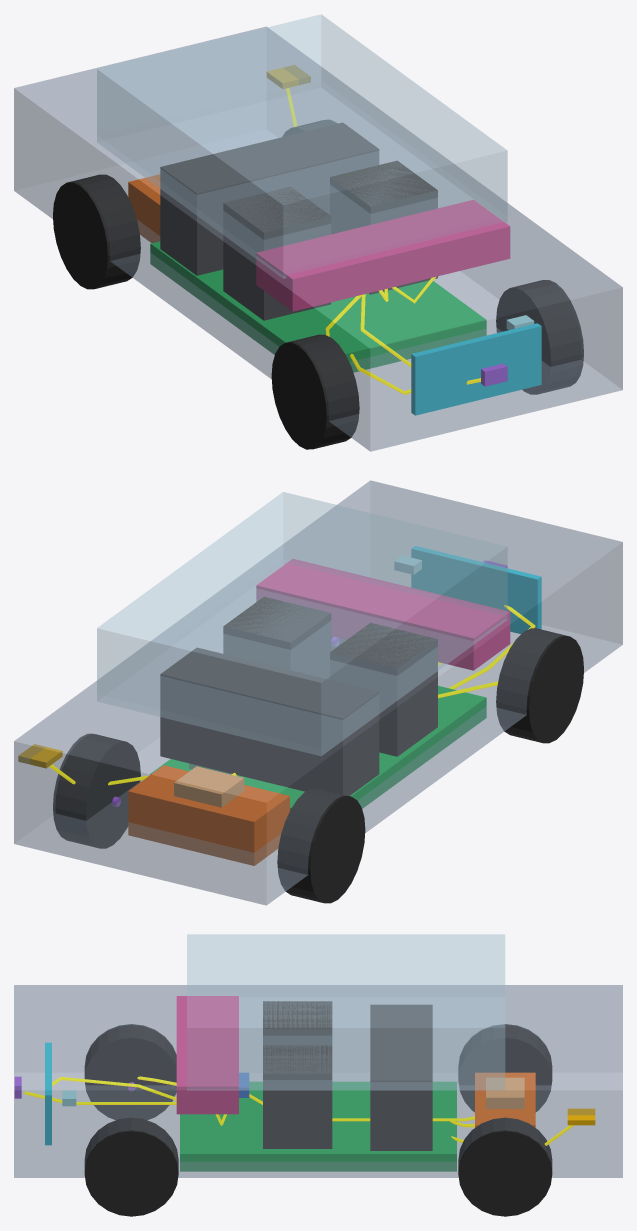
File: car.glb
3 views of the same model, one above another, from view 1: azimuth 30°, elevation 25°; view 2: azimuth 150°, elevation 25°; view 3: azimuth 270°, elevation 25° (orthographic). The views are drawn at different scales.
Parts seen in each view (by area): view 1: VEH, DECOR_canopy, HMI, DECOR_seat_rear, ENERGY, DECOR_wheel_FR, DECOR_wheel_RR, DECOR_seat_R, THERMAL, DECOR_seat_L, DECOR_wheel_FL, POWERTRAIN (+1 smaller); view 2: VEH, DECOR_canopy, DECOR_seat_rear, HMI, POWERTRAIN, DECOR_seat_R, DECOR_wheel_RR, DECOR_wheel_FR, DECOR_wheel_RL, DECOR_seat_L, THERMAL, ENERGY (+2 smaller); view 3: VEH, DECOR_canopy, ENERGY, DECOR_seat_rear, DECOR_wheel_FL, DECOR_wheel_RL, HMI, DECOR_seat_L, DECOR_wheel_FR, DECOR_wheel_RR, DECOR_seat_R, POWERTRAIN (+5 smaller).
Boxes of the visible parts, box(x1,y1,x2,y2) form: VEH: box(14, 26, 622, 451); DECOR_canopy: box(97, 14, 507, 278); HMI: box(256, 200, 510, 311); DECOR_seat_rear: box(160, 122, 379, 275); ENERGY: box(150, 241, 486, 372); DECOR_wheel_FR: box(271, 334, 359, 449); DECOR_wheel_RR: box(53, 174, 140, 289); DECOR_seat_R: box(223, 186, 331, 320); THERMAL: box(411, 323, 541, 415); DECOR_seat_L: box(330, 160, 437, 294); DECOR_wheel_FL: box(496, 280, 583, 394); POWERTRAIN: box(128, 174, 160, 242); VEH: box(14, 480, 622, 905); DECOR_canopy: box(97, 492, 507, 755); DECOR_seat_rear: box(160, 647, 379, 795); HMI: box(256, 559, 510, 670); POWERTRAIN: box(128, 765, 289, 865); DECOR_seat_R: box(330, 622, 437, 756); DECOR_wheel_RR: box(277, 788, 365, 903); DECOR_wheel_FR: box(496, 628, 583, 743); DECOR_wheel_RL: box(53, 734, 140, 848); DECOR_seat_L: box(223, 596, 331, 679); THERMAL: box(411, 546, 541, 633); ENERGY: box(150, 686, 486, 809); VEH: box(14, 985, 622, 1177); DECOR_canopy: box(187, 934, 504, 1090); ENERGY: box(180, 1082, 456, 1171); DECOR_seat_rear: box(370, 1004, 432, 1150); DECOR_wheel_FL: box(84, 1117, 178, 1216); DECOR_wheel_RL: box(458, 1117, 552, 1216); HMI: box(176, 996, 238, 1114); DECOR_seat_L: box(263, 1045, 332, 1148); DECOR_wheel_FR: box(84, 1024, 176, 1119); DECOR_wheel_RR: box(458, 1024, 552, 1111); DECOR_seat_R: box(263, 1001, 332, 1045); POWERTRAIN: box(475, 1072, 535, 1127).
Size of the model in its own units: 1.9 by 1.45 by 4.4.
